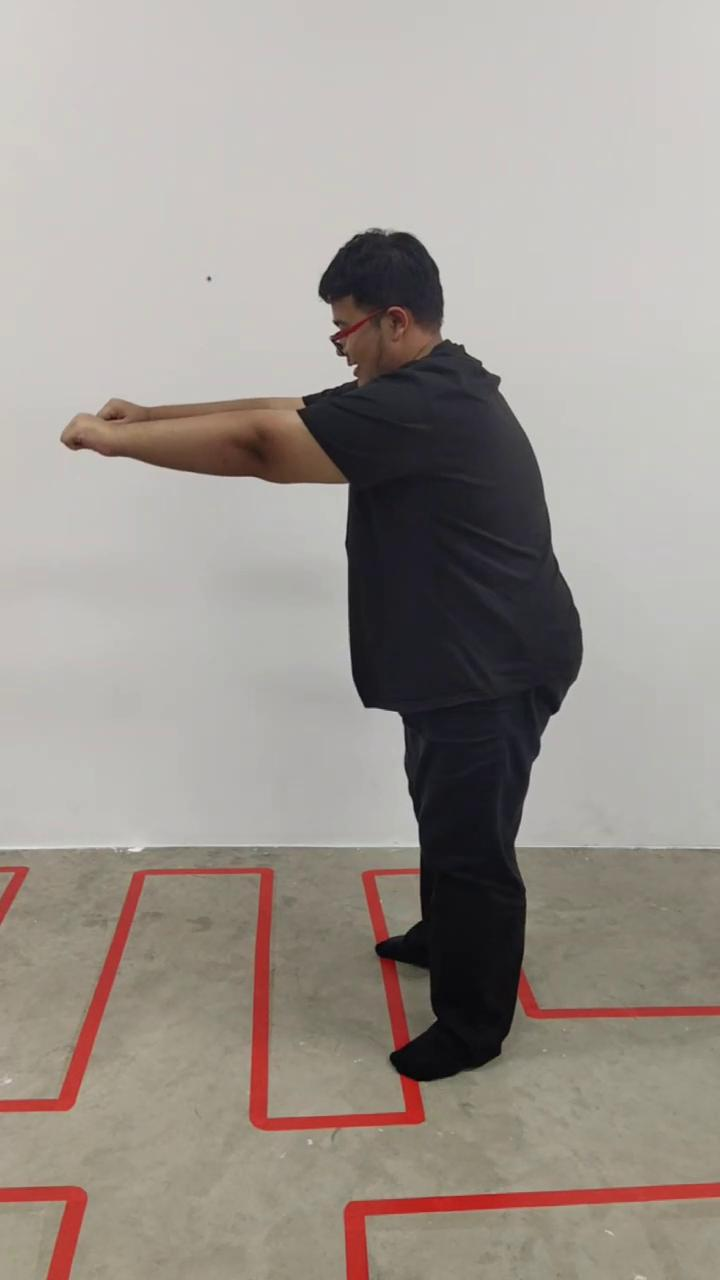squat up: (62, 230, 583, 1080)
